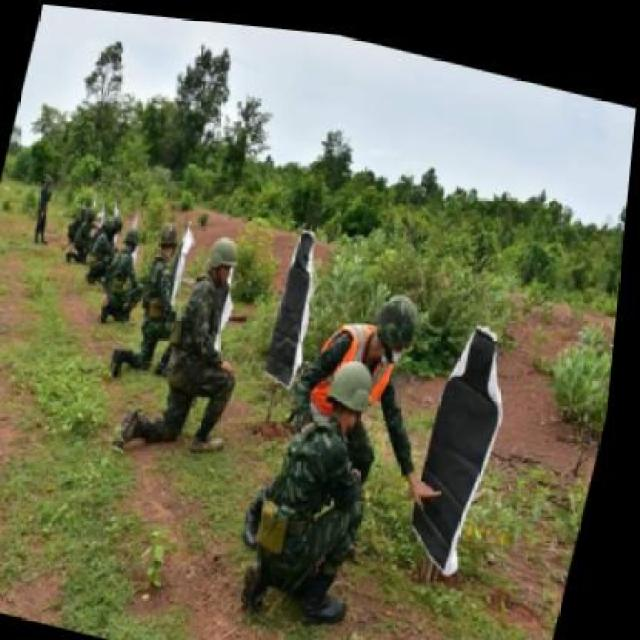MIL_Pax: (237, 350, 398, 638), (286, 263, 431, 466), (140, 238, 258, 458), (121, 207, 199, 385), (96, 214, 159, 340), (24, 158, 73, 257), (84, 219, 134, 303), (68, 211, 102, 271)
